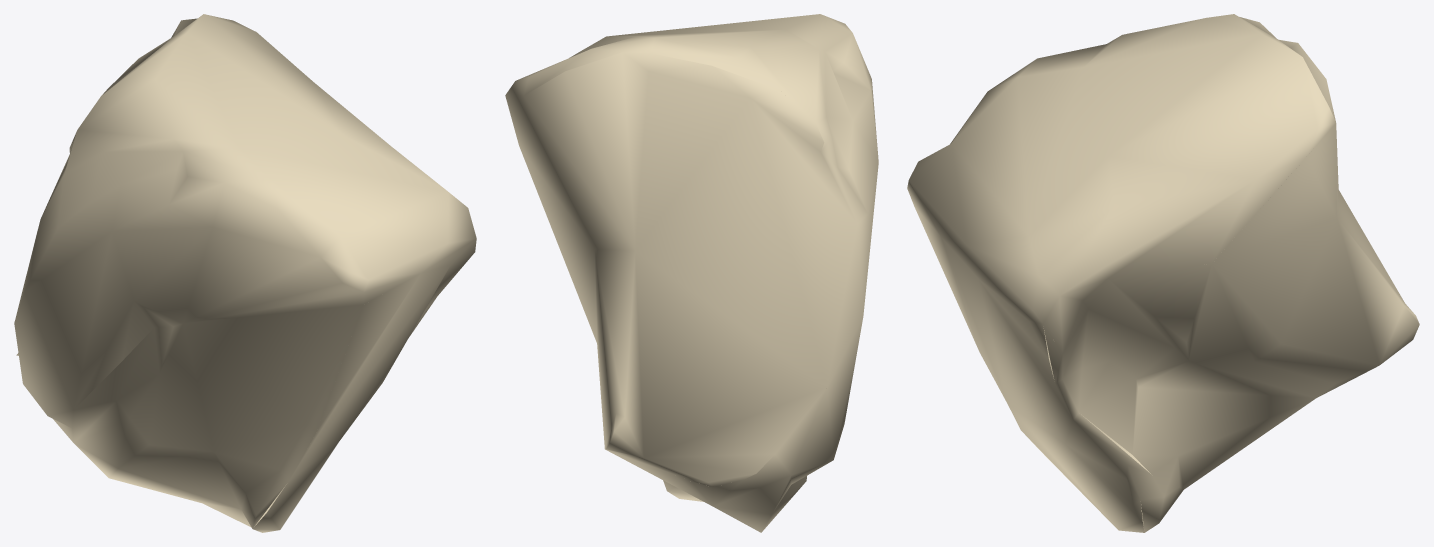
The model's file is esqueleto-intermediate-cuneiform-bone-l.glb.
3 renders of one model, left to right at view 1: azimuth 30°, elevation 25°; view 2: azimuth 150°, elevation 25°; view 3: azimuth 270°, elevation 25°, orthographic. The views are drawn at different scales.
Parts seen in each view (by area): view 1: Intermediate cuneiform bone.l; view 2: Intermediate cuneiform bone.l; view 3: Intermediate cuneiform bone.l.
Boxes of the visible parts, left/top/right/bottom form: Intermediate cuneiform bone.l: left=14, top=14, right=476, bottom=532; Intermediate cuneiform bone.l: left=505, top=14, right=878, bottom=532; Intermediate cuneiform bone.l: left=907, top=14, right=1419, bottom=532.
Size of the model in its own units: 0.0195 by 0.024 by 0.023.
